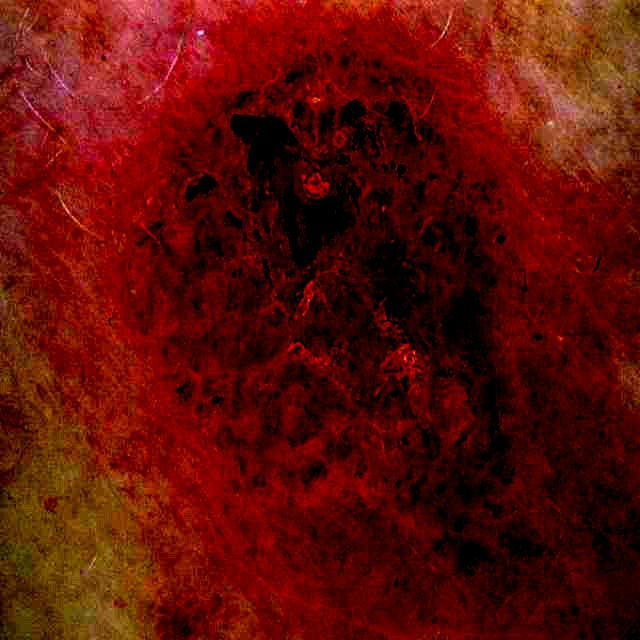BKL: (121, 41, 535, 586)
